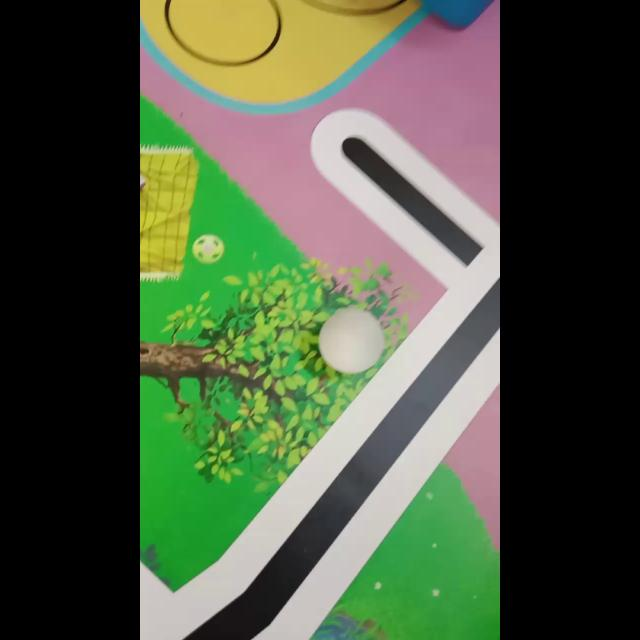white ball: (317, 306, 385, 374)
